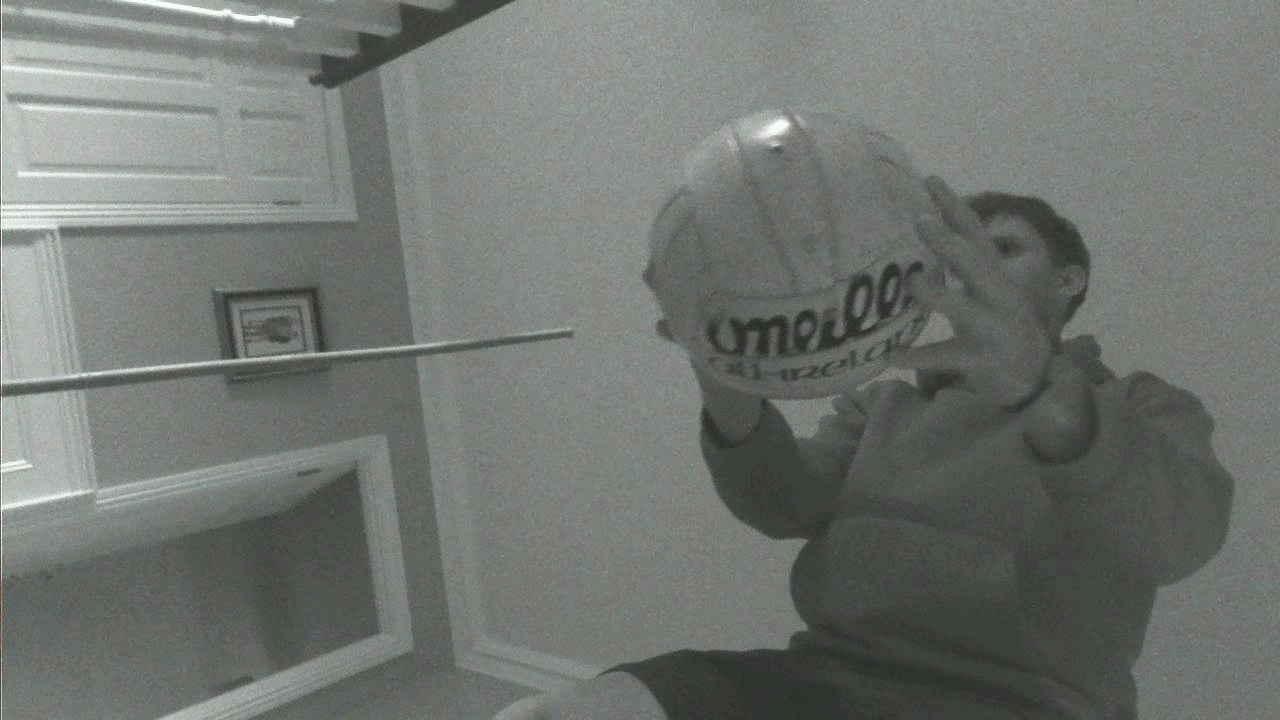Football-Spotter: (650, 109, 938, 397)
